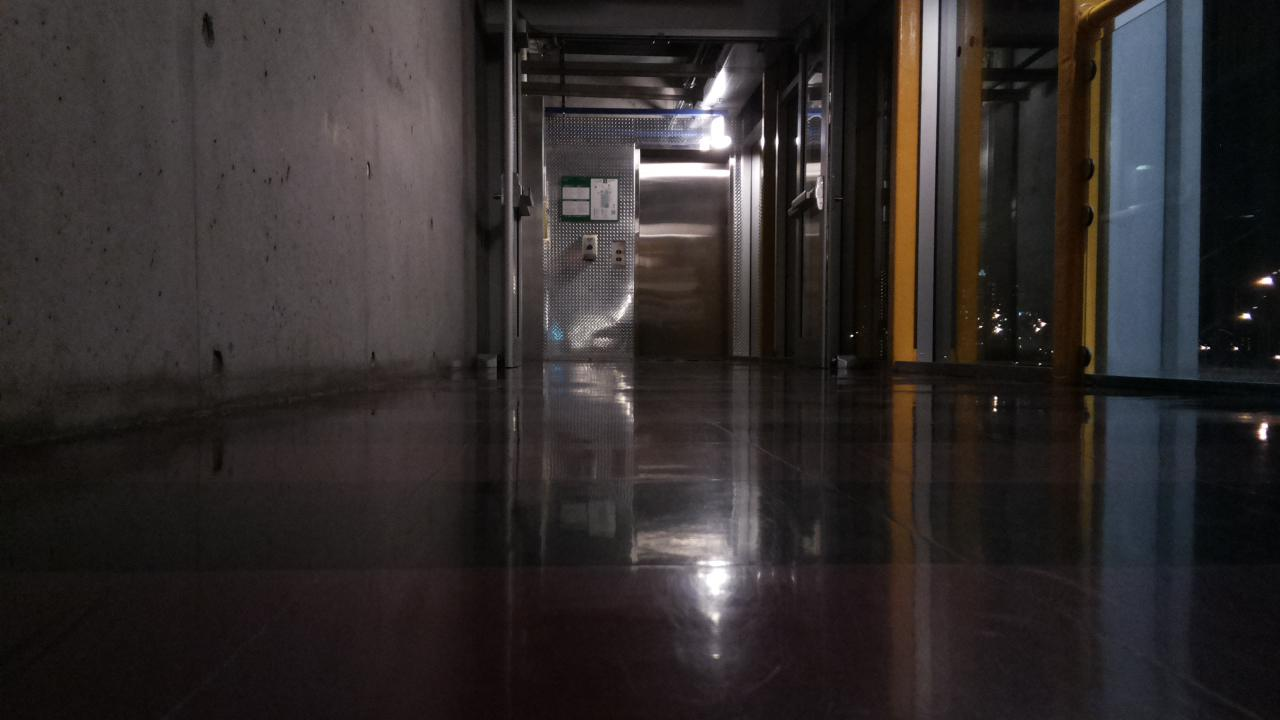door: (640, 151, 728, 359)
sign: (561, 177, 618, 221)
